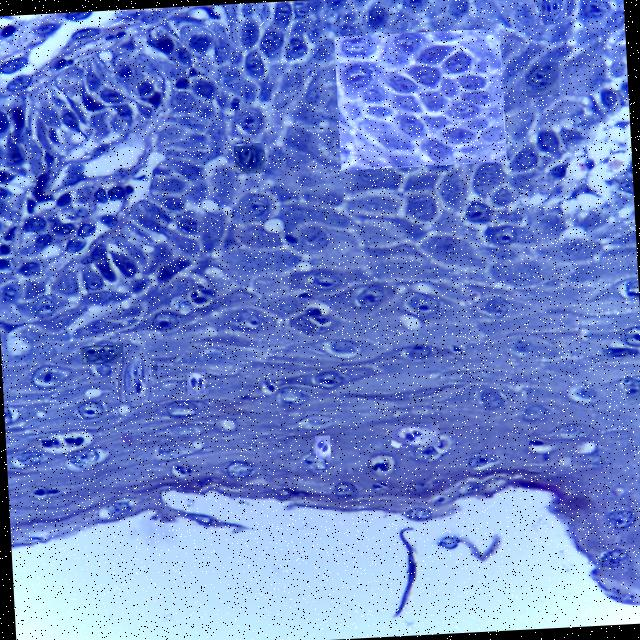Multiple Nucleol: (119, 357, 151, 402), (391, 423, 438, 447), (526, 63, 558, 96), (234, 145, 265, 173), (81, 344, 122, 364), (540, 0, 566, 25), (625, 376, 640, 405), (187, 373, 205, 394), (315, 436, 330, 459)
Nuclear Hyperchromatism: (336, 34, 503, 165)
